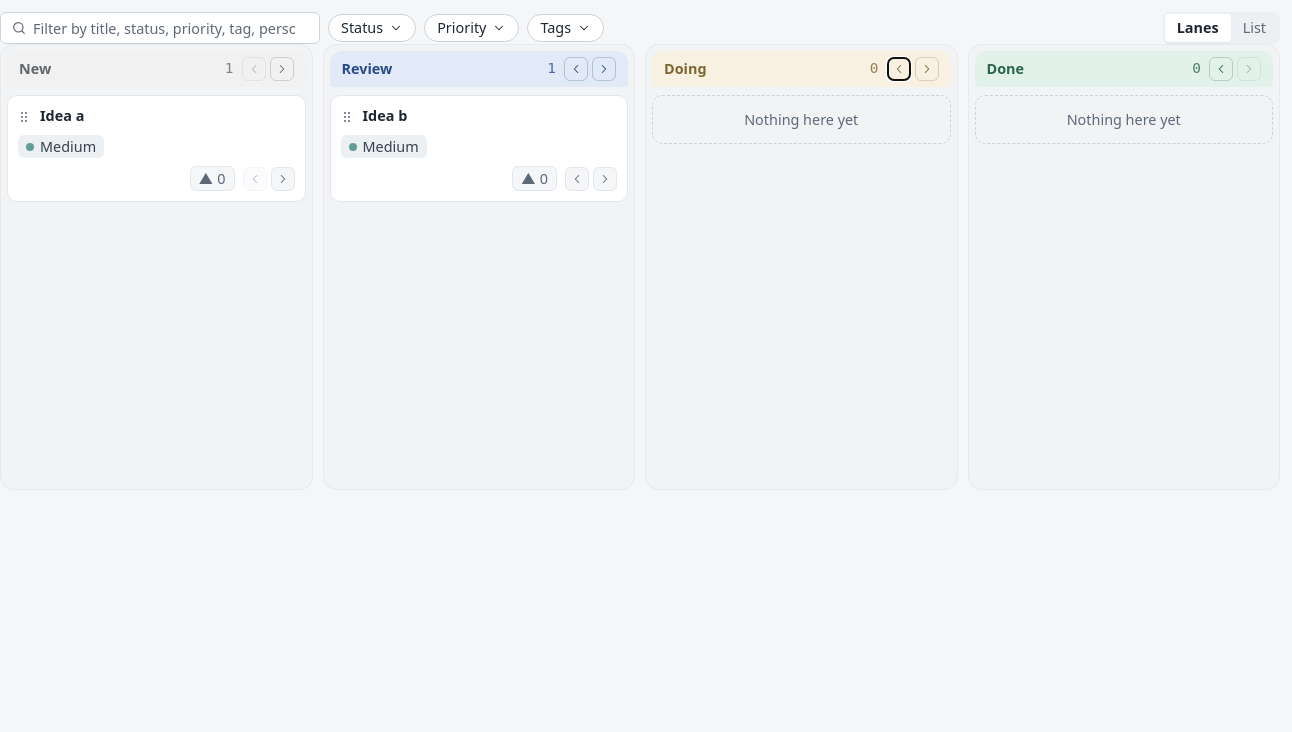
lane arrows › put the lanes back and show the API’s message when the save is refused
Click the button named "Move the Doing lane left" at point(898, 69), box top-left (886, 57), bottom-right (910, 81)
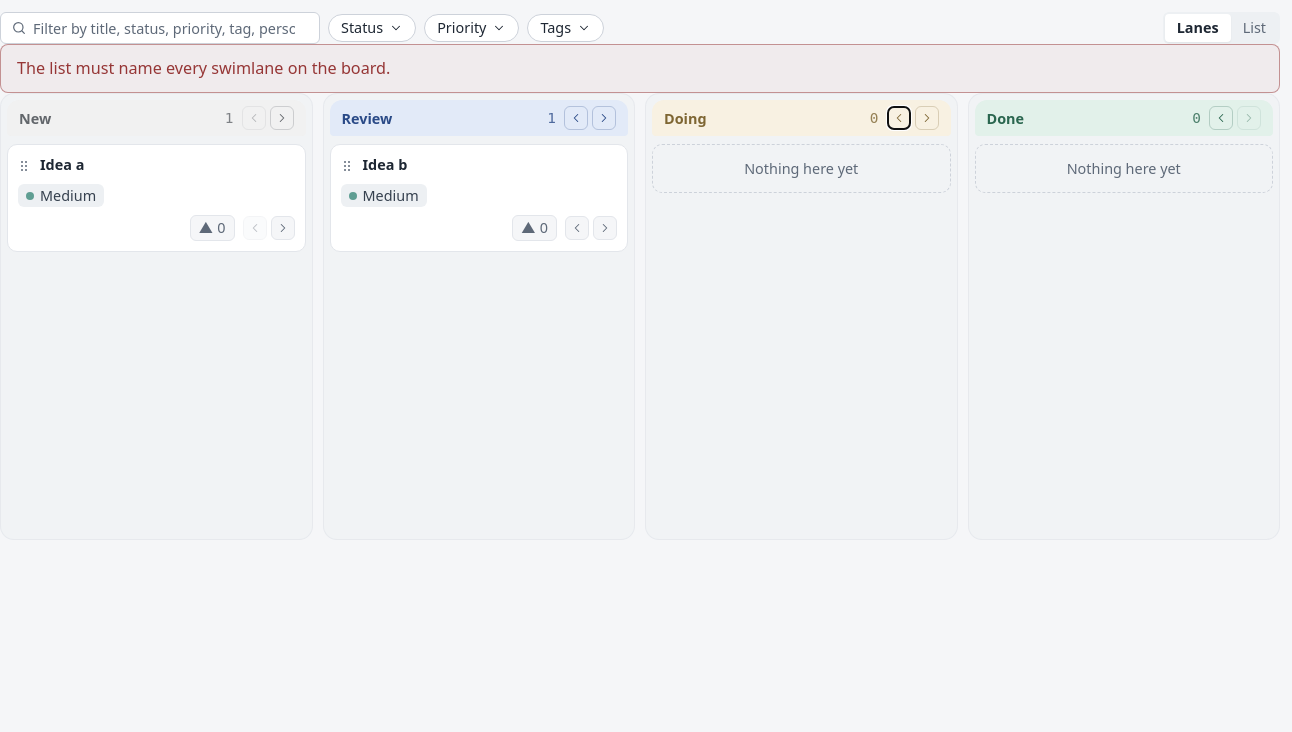
Now the message reads "The list must name every swimlane on the board.", box top-left (17, 57), bottom-right (390, 79)
